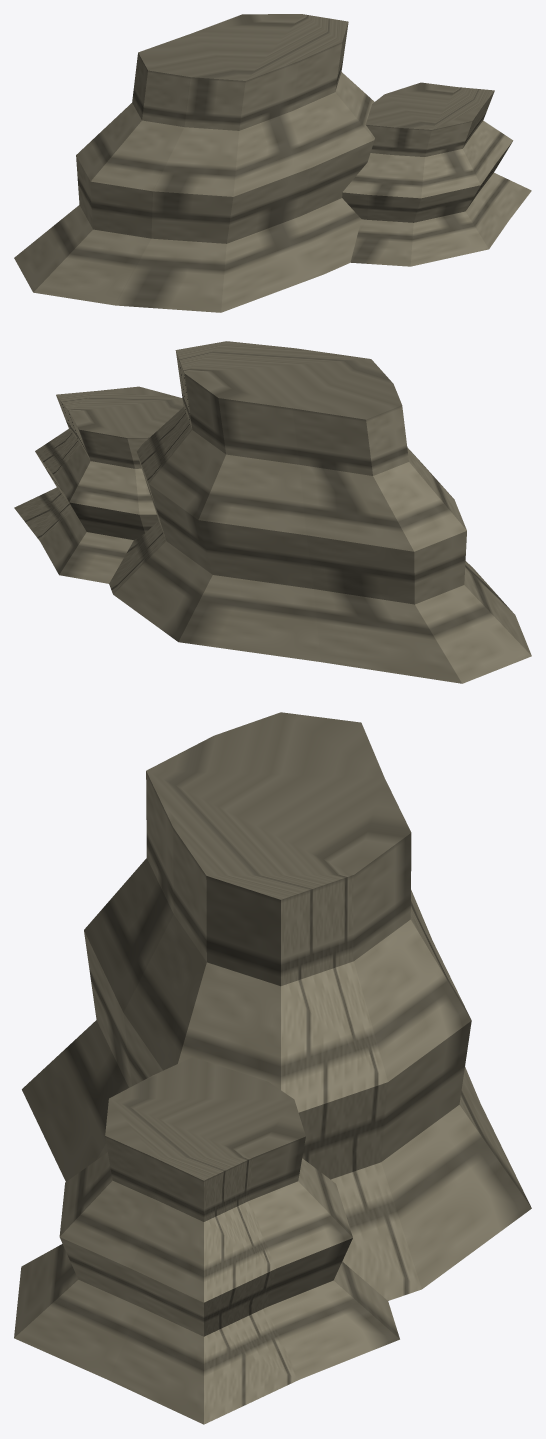
File: rock-ledge-lod0.glb
3 views of the same model, one above another, from view 1: azimuth 30°, elevation 25°; view 2: azimuth 150°, elevation 25°; view 3: azimuth 270°, elevation 25° (orthographic). The views are drawn at different scales.
Bounding box in the file's own units: 0.8257 × 0.32 × 0.4037.
1 material, 1 textured.
